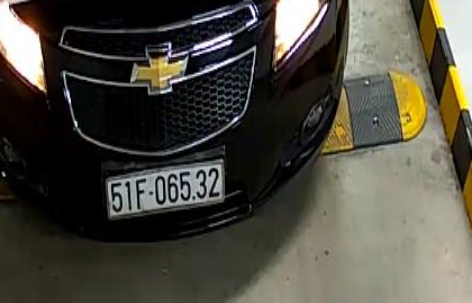plate: (100, 163, 228, 217)
